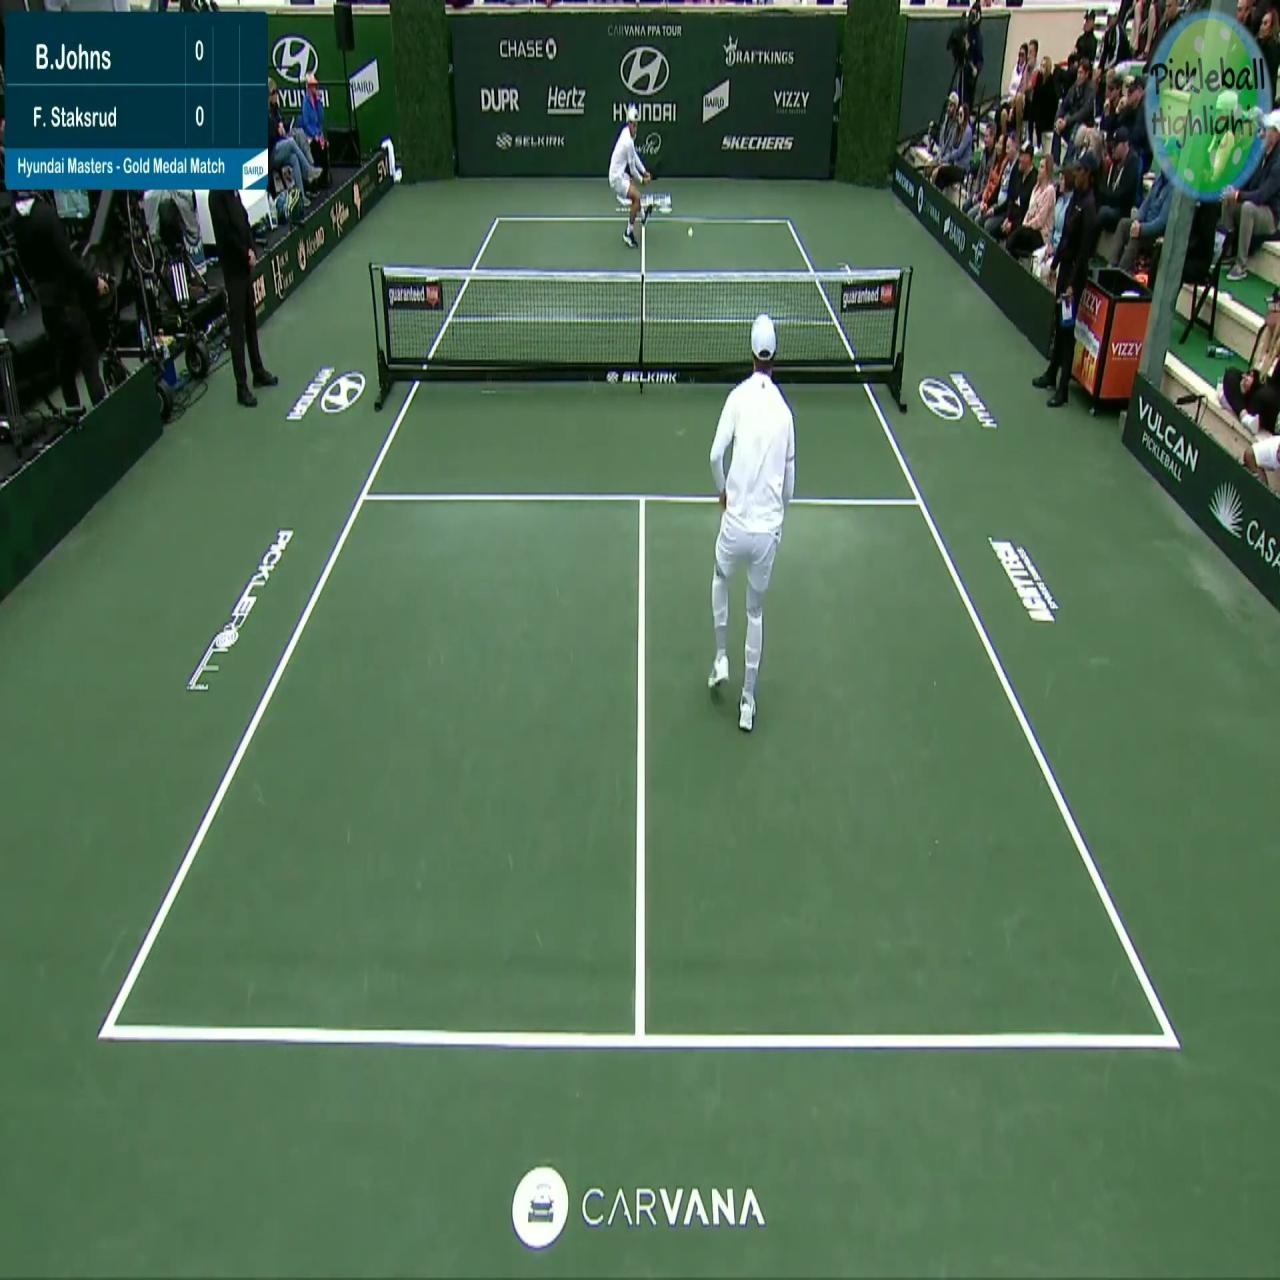pickleball: (687, 227, 693, 237)
